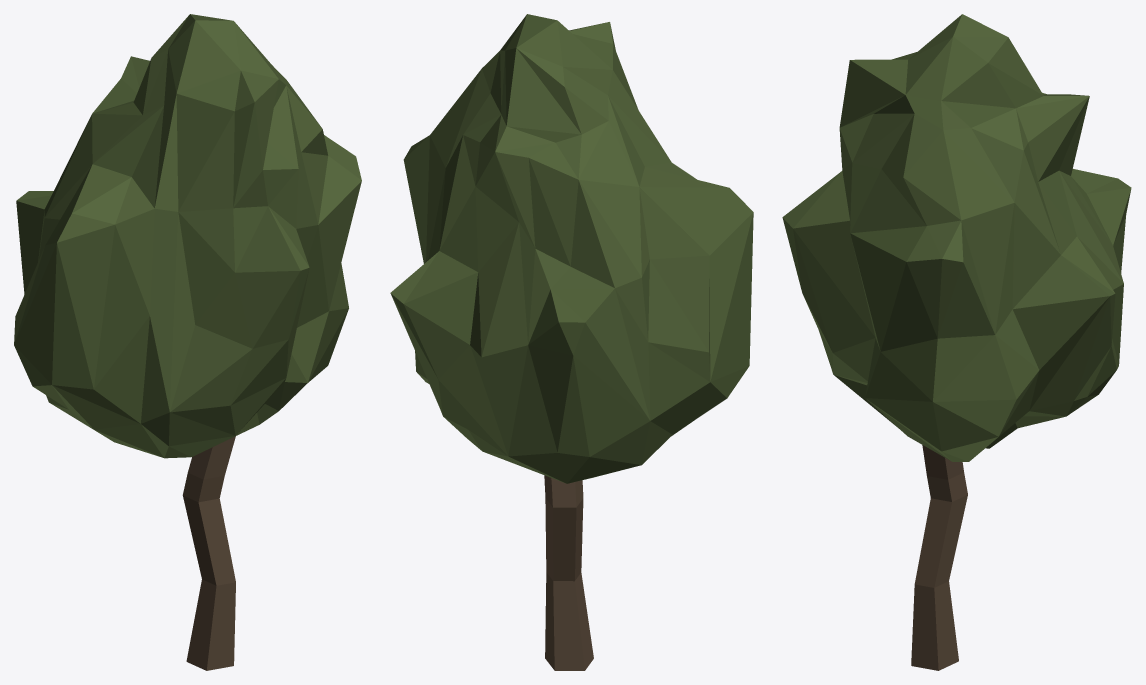
File: Tree_043.fbx
3 views of the same model, side by side, from view 1: azimuth 30°, elevation 25°; view 2: azimuth 150°, elevation 25°; view 3: azimuth 270°, elevation 25° (orthographic). The views are drawn at different scales.
Visible parts, largest first — view 1: Tree_043; view 2: Tree_043; view 3: Tree_043.
Boxes of the visible parts, bbox=[...] form: Tree_043: bbox=[14, 14, 361, 670]; Tree_043: bbox=[390, 14, 753, 670]; Tree_043: bbox=[782, 14, 1131, 670].
Bounding box in the file's own units: 0.4476 × 0.8553 × 0.4195.
1 material, 1 textured.
